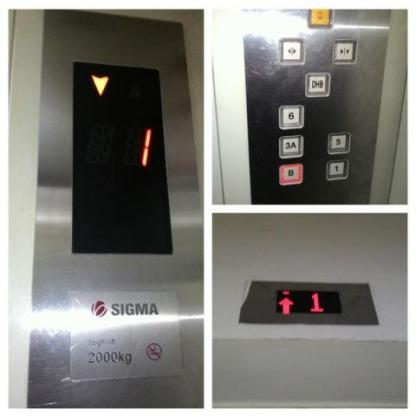1: (326, 159, 347, 180)
3A: (277, 132, 302, 158)
5: (326, 131, 350, 153)
6: (278, 103, 303, 128)
B: (278, 162, 302, 184)
DHB: (304, 71, 329, 96)
alarm: (306, 8, 334, 29)
close: (331, 37, 357, 64)
led: (71, 59, 173, 254), (274, 287, 341, 314)
open: (278, 38, 303, 65)
